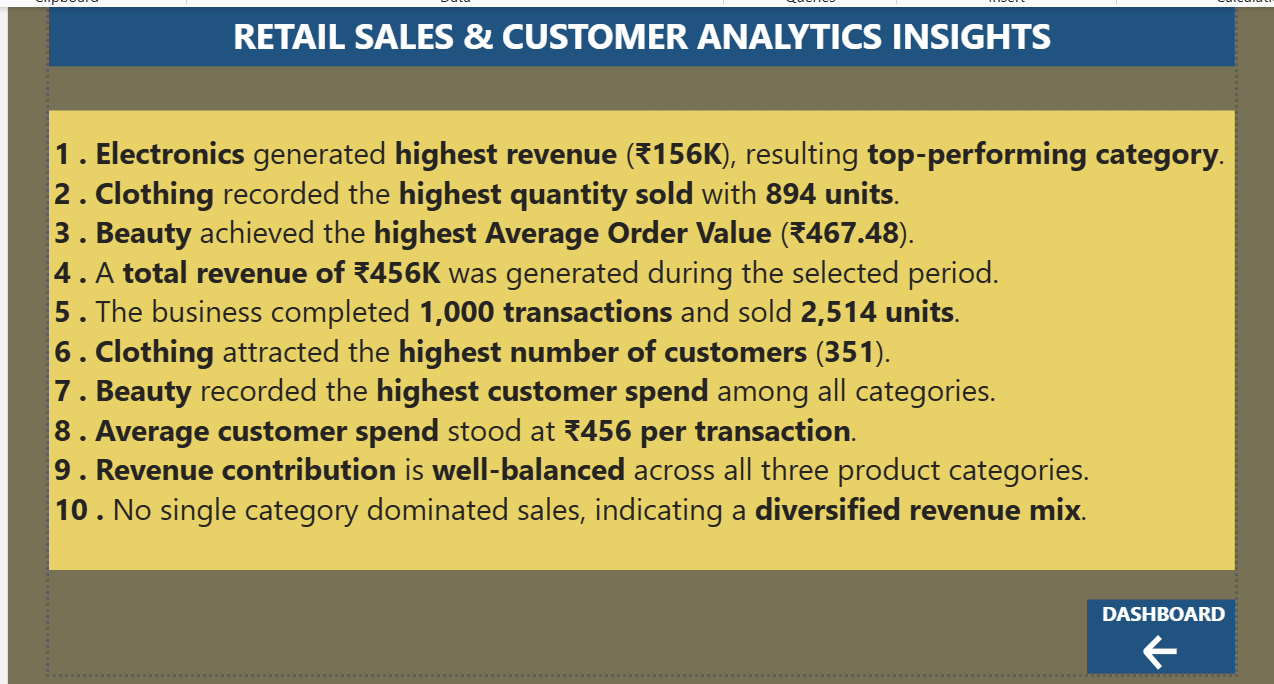

The page's visual inventory and layout, read from the dashboard file:
{"tool":"powerbi","page":{"name":"INSIGHTS","canvas":[1280,720],"ordinal":1},"visuals":[{"type":"textbox","box":[0,0,1280,64],"z":0},{"type":"textbox","box":[1120,640,160,80],"z":1},{"type":"actionButton","title":"DASHBOARD","box":[1136,640,144,80],"z":2},{"type":"textbox","box":[0,112,1280,496],"z":3}]}

Visuals, with their boxes on the page's 1280x720 design canvas (x1, y1, x2, y2). These are canvas units, not pixel positions in the 1274x684 screenshot, which may show the page scaled, cropped or inside an application window:
textbox: x1=0, y1=0, x2=1280, y2=64
textbox: x1=1120, y1=640, x2=1280, y2=720
"DASHBOARD" actionButton: x1=1136, y1=640, x2=1280, y2=720
textbox: x1=0, y1=112, x2=1280, y2=608
